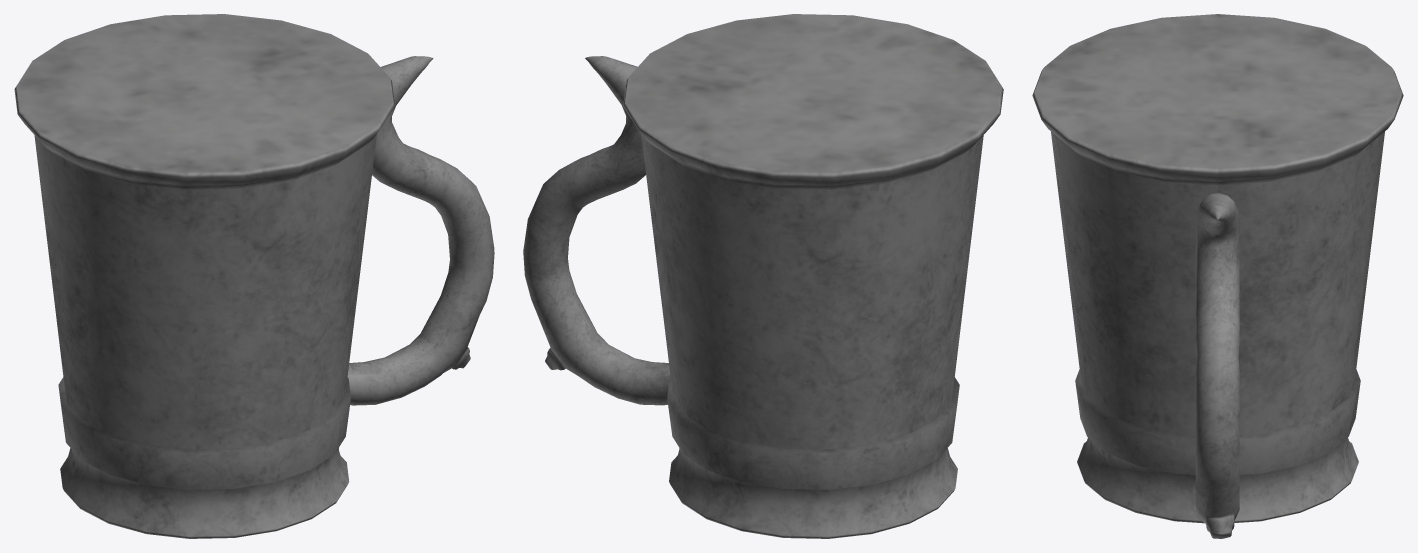
The picture shows the model from 3 angles, left to right: view 1: azimuth 30°, elevation 25°; view 2: azimuth 150°, elevation 25°; view 3: azimuth 270°, elevation 25°; orthographic projection. The views are drawn at different scales.
Visible parts, largest first — view 1: Tavern_Beer_Cup; view 2: Tavern_Beer_Cup; view 3: Tavern_Beer_Cup.
Boxes of the visible parts, bbox=[...] form: Tavern_Beer_Cup: bbox=[14, 14, 494, 538]; Tavern_Beer_Cup: bbox=[523, 14, 1003, 538]; Tavern_Beer_Cup: bbox=[1032, 14, 1403, 538].
Bounding box in the file's own units: 24.89 × 20.24 × 18.22.
1 material, 1 textured.
